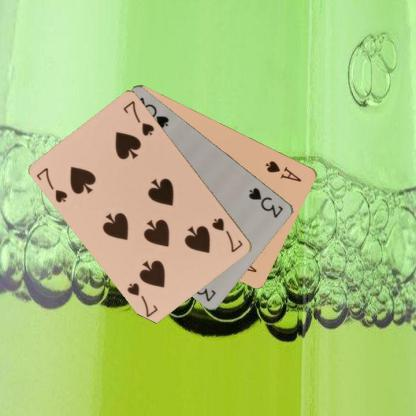3s: (246, 185, 285, 219)
7s: (34, 165, 70, 204), (209, 215, 244, 254)
As: (263, 158, 303, 183)
